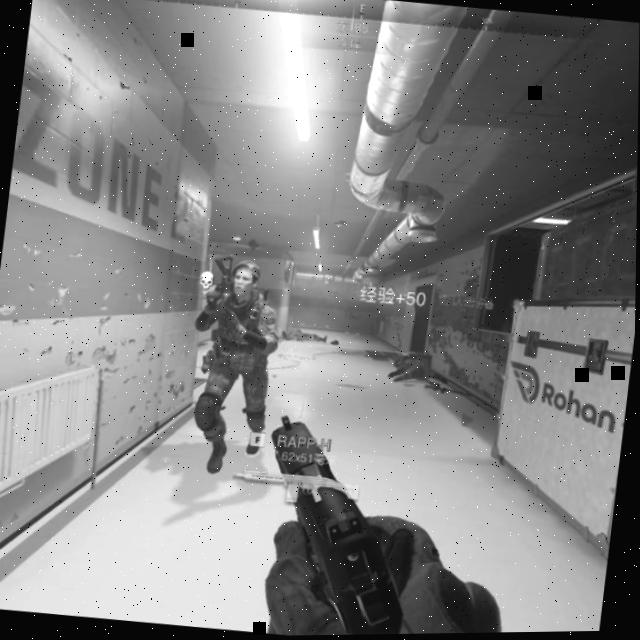MW2_body: (177, 234, 290, 478)
